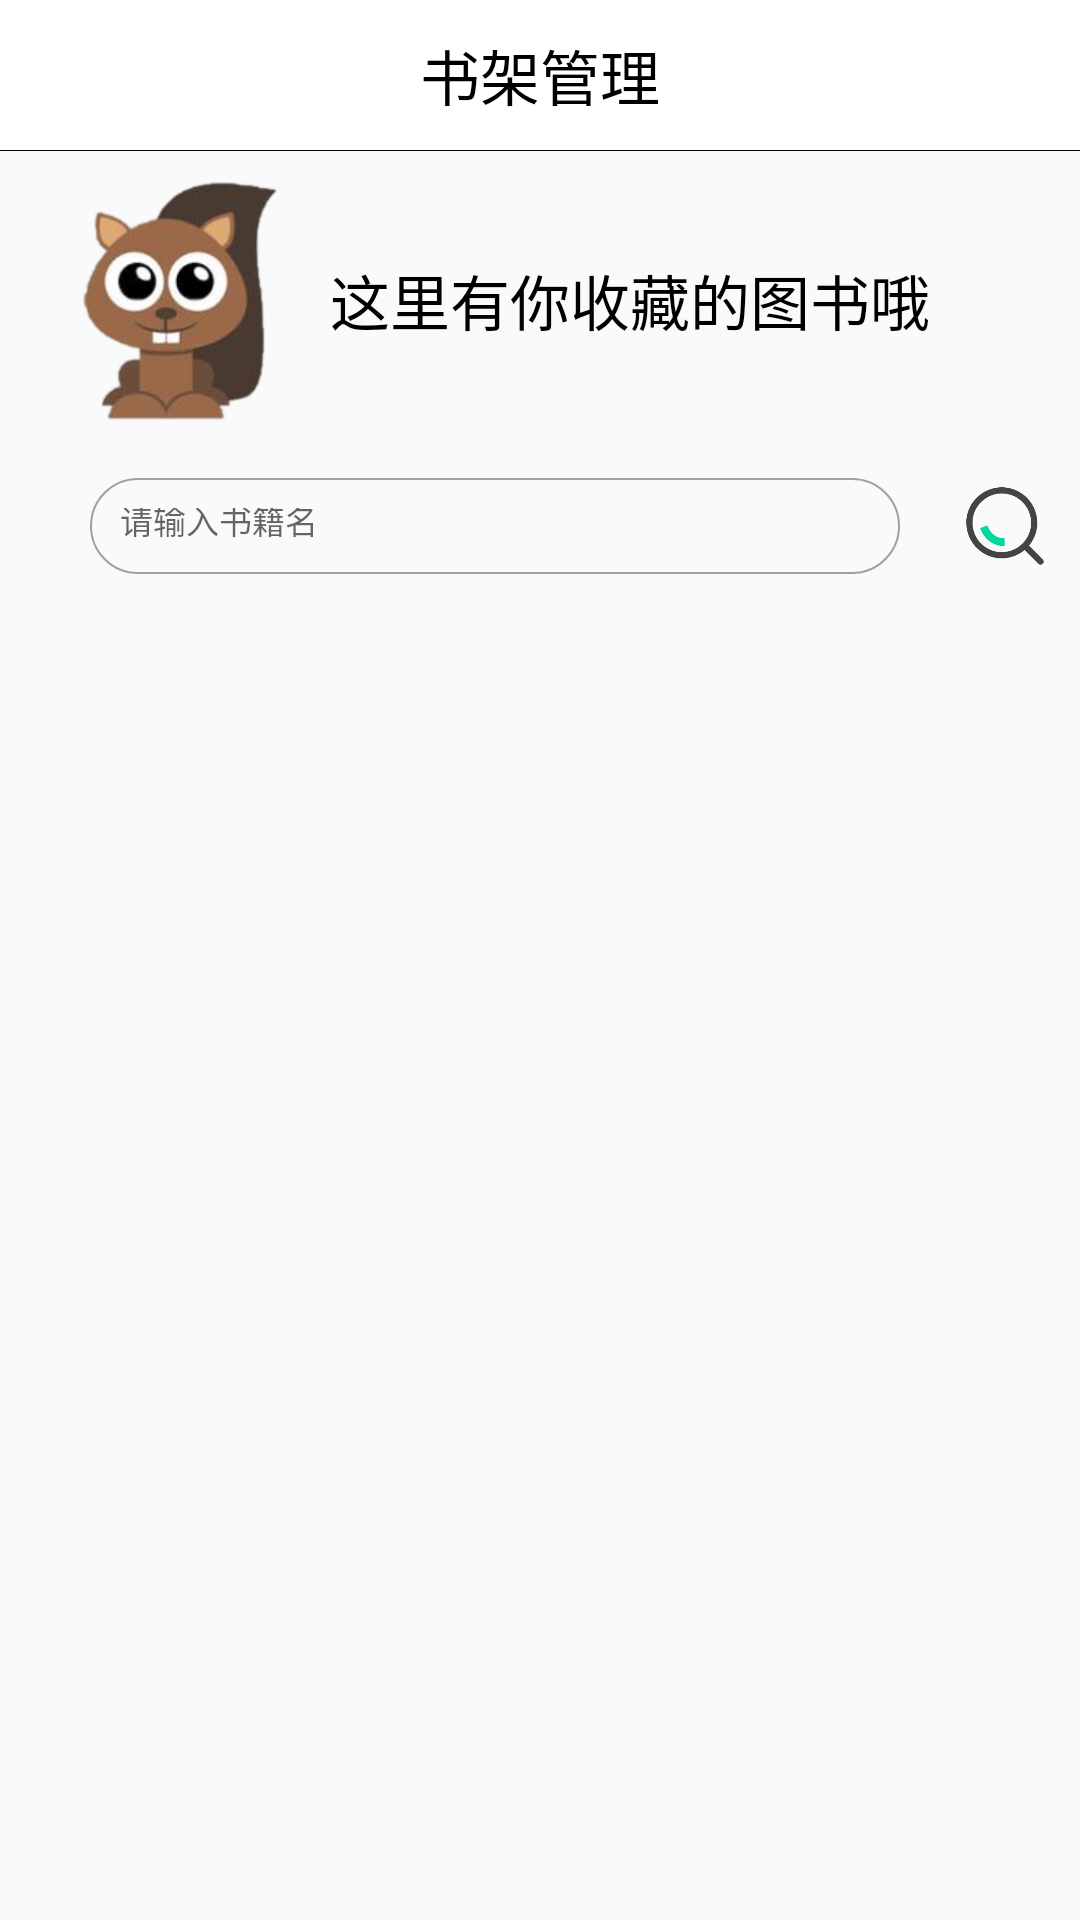

Screen size 1080x1920. Icon name, then its box in pixels as (x1, y1, x2, y2):
find: (966, 487, 1044, 565)
songshu: (83, 182, 276, 419)
